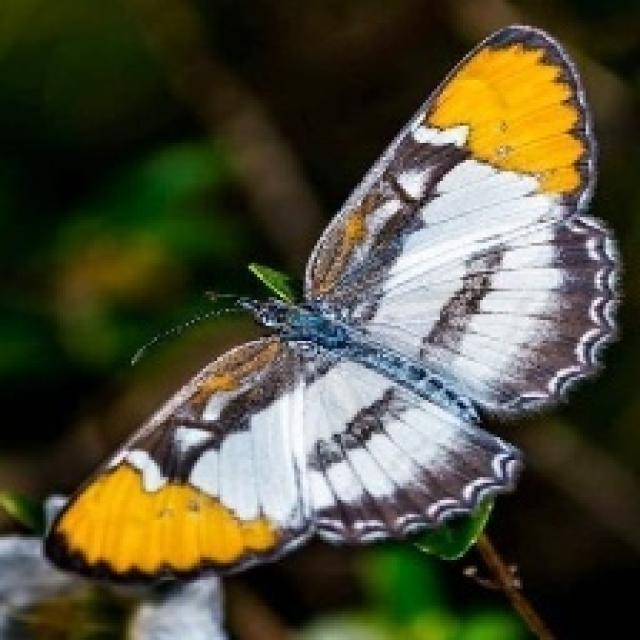butterfly: (40, 20, 623, 586)
